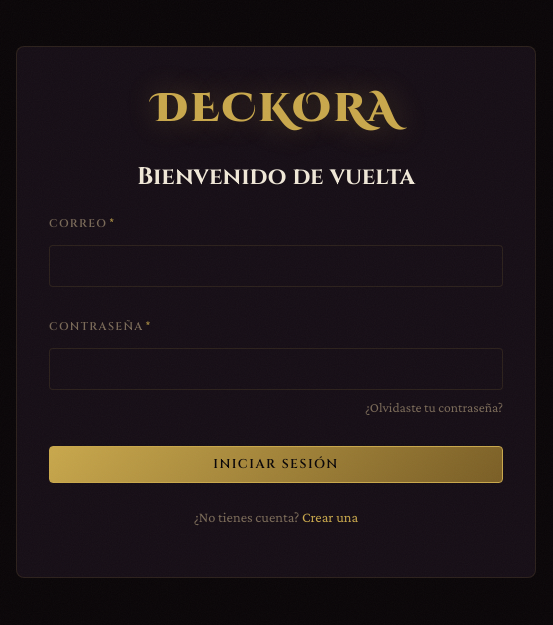
Test case: Login › muestra error cuando el login falla
This screenshot has width=553, height=625.
Type "a@a.cl" into the field labelled "Correo*" at [276, 266], box [49,245,503,287]
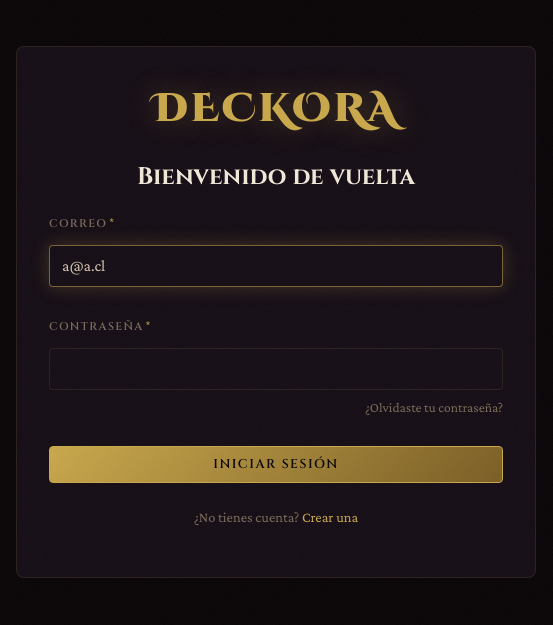
Type "mala" into the password field labelled "Contraseña*" at [276, 369], box [49,348,503,390]
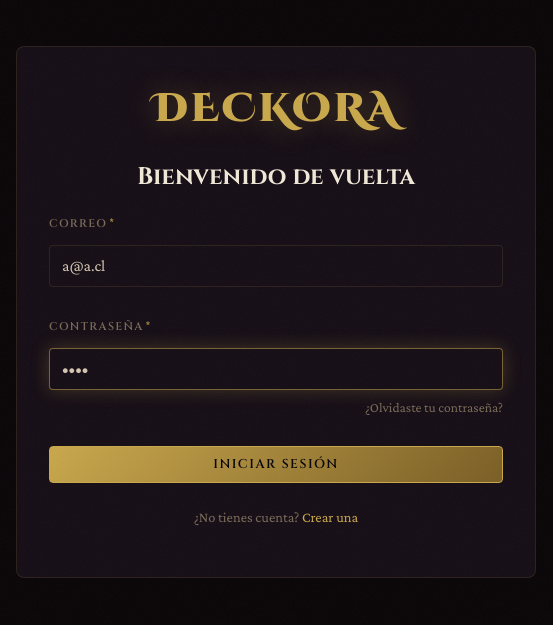
Click the button "Iniciar sesión" at [276, 465], box [49,446,503,483]
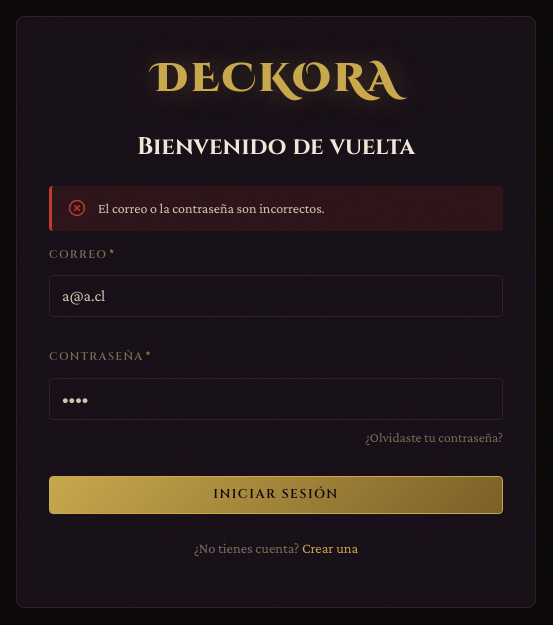
Expected: the message "El correo o la contraseña son incorrectos." is shown, [49,186,503,230]
